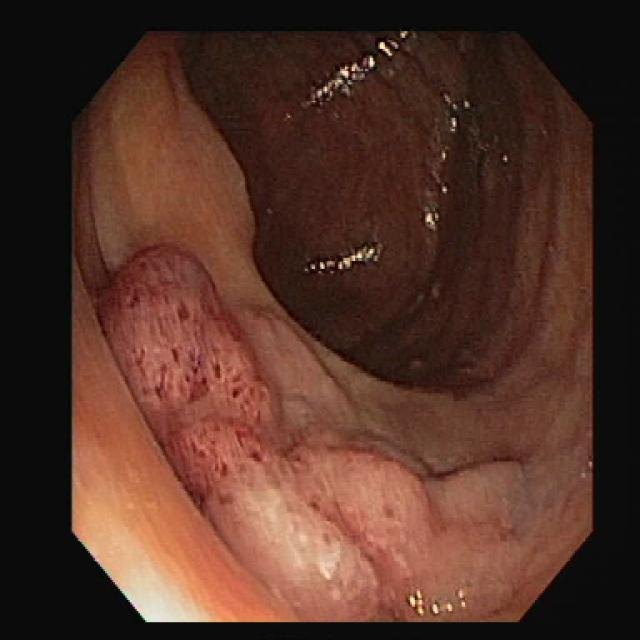tumor: (98, 244, 512, 620)
